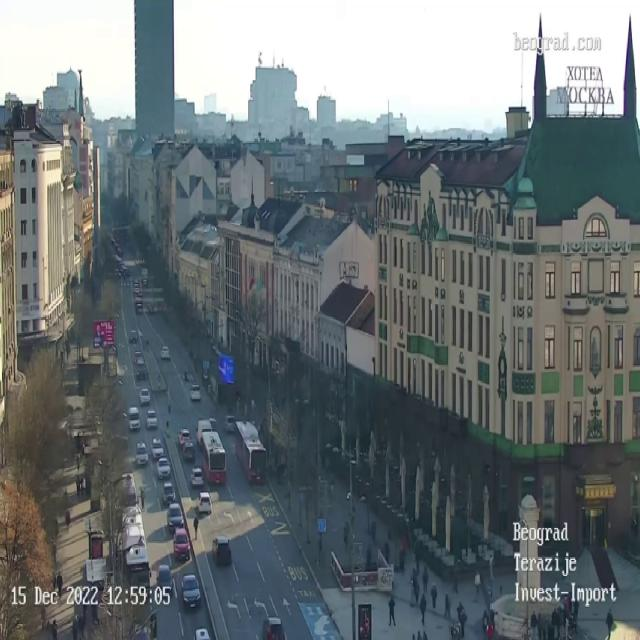bus: (122, 502, 150, 609), (234, 416, 268, 482), (201, 429, 226, 481), (118, 468, 136, 509)
car: (182, 575, 201, 607), (212, 538, 232, 568), (166, 502, 184, 532), (263, 617, 286, 639), (176, 530, 190, 560), (158, 564, 172, 593), (156, 458, 172, 483), (198, 489, 212, 515), (163, 479, 176, 506), (136, 442, 148, 469), (192, 464, 204, 488), (182, 442, 196, 462), (153, 438, 164, 461), (129, 410, 140, 431), (148, 409, 158, 430), (160, 343, 171, 360), (196, 627, 210, 640), (140, 389, 149, 408), (137, 359, 145, 380), (191, 386, 201, 402), (130, 330, 138, 346)
